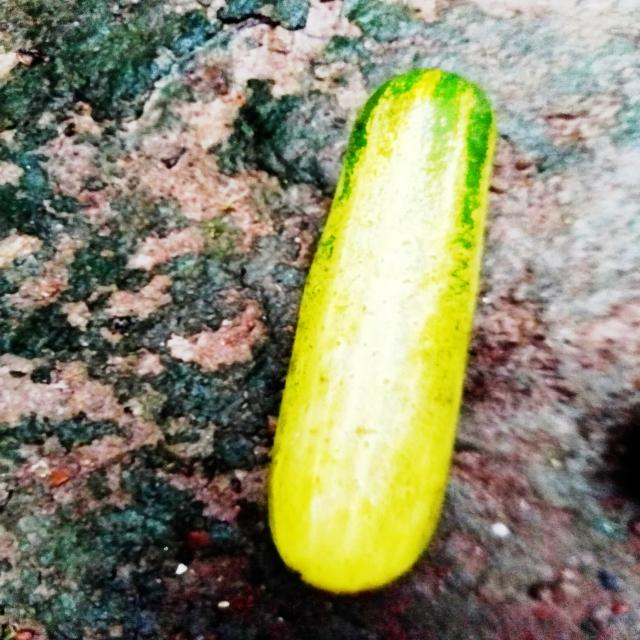Fresh-Cucumber: (264, 62, 498, 599)
